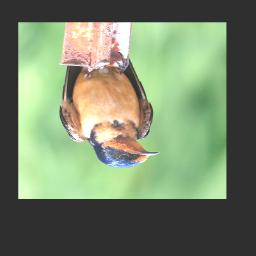Swallow: (59, 51, 160, 168)
